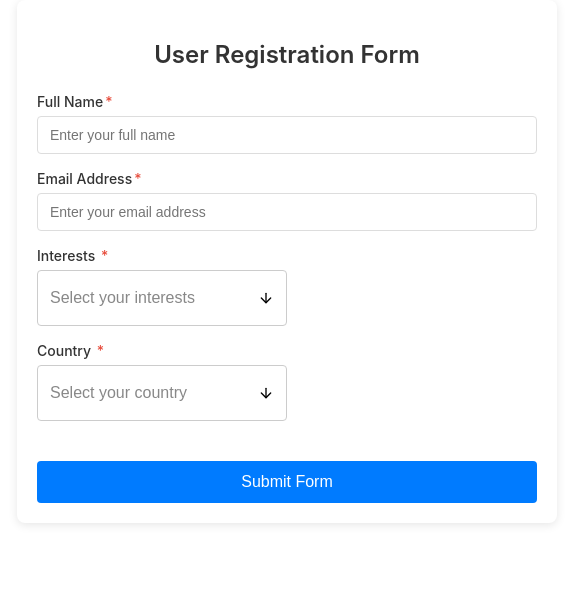
Test: Form Component › uses select all functionality for interests
The width and height of the screenshot is (575, 613).
Click the button "Select your interests".
click(162, 298)  # box [37,270,287,326]
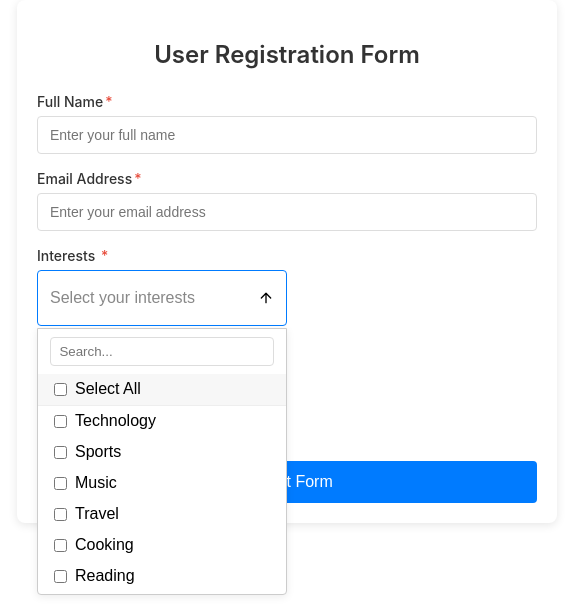
Click the text "Select All".
click(108, 389)  # box [75,380,141,398]
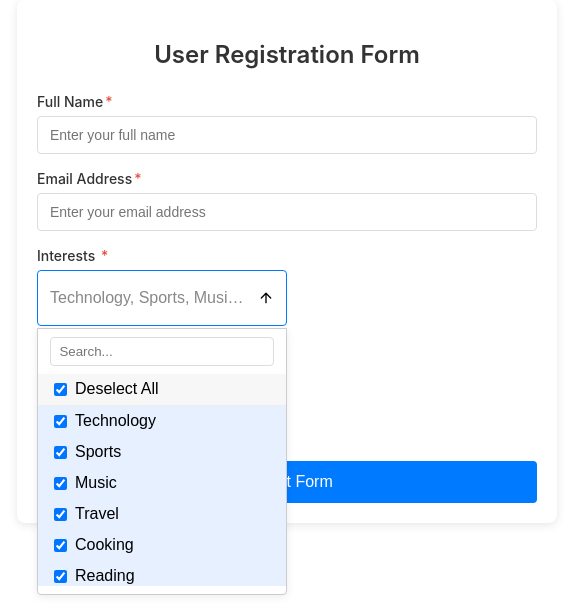
Expected: the text "Deselect All" is shown, [75,380,159,398]
